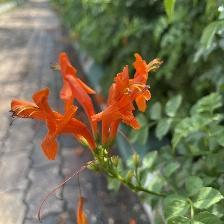honeysuckle: (100, 53, 163, 153)
